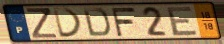2: (142, 6, 169, 37)
D: (51, 6, 85, 39), (81, 7, 112, 38)
E: (166, 5, 200, 37)
F: (109, 6, 137, 38)
Z: (25, 7, 59, 40)
